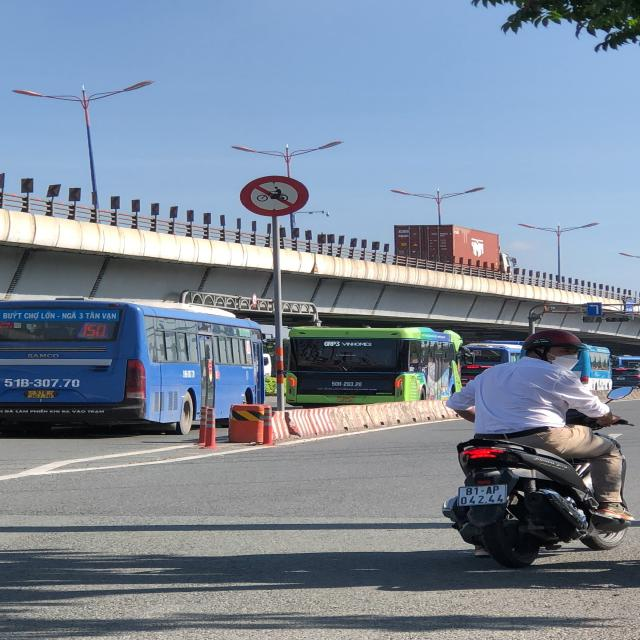Bien bao cam xe may: (232, 171, 312, 219)
